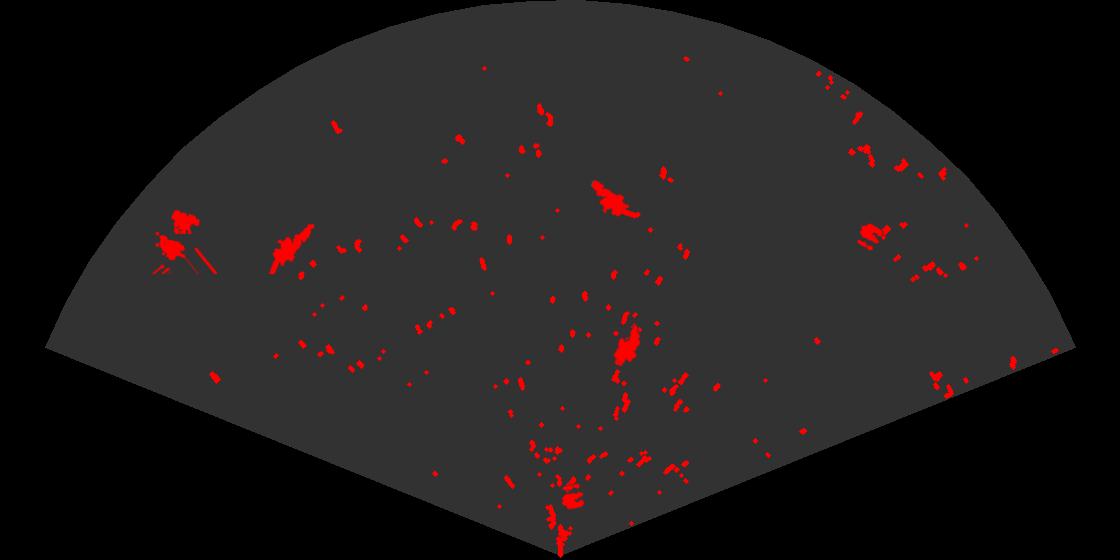AUV: (612, 323, 642, 368)
ball: (855, 222, 885, 252), (560, 482, 586, 511)
cage: (150, 208, 217, 274)
frogman: (267, 214, 317, 274), (590, 179, 636, 220)
